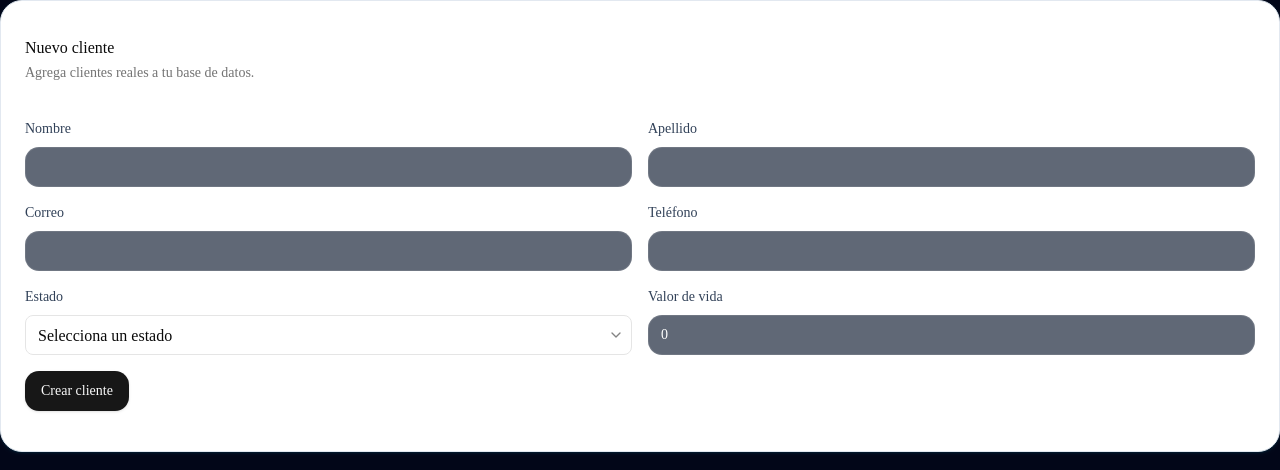
renders form and submits
This screenshot has width=1280, height=470.
Note: first textbox corresponds to Nombre
In the field labelled "Nombre": (328, 167) [25, 147, 632, 187], type "Juan"
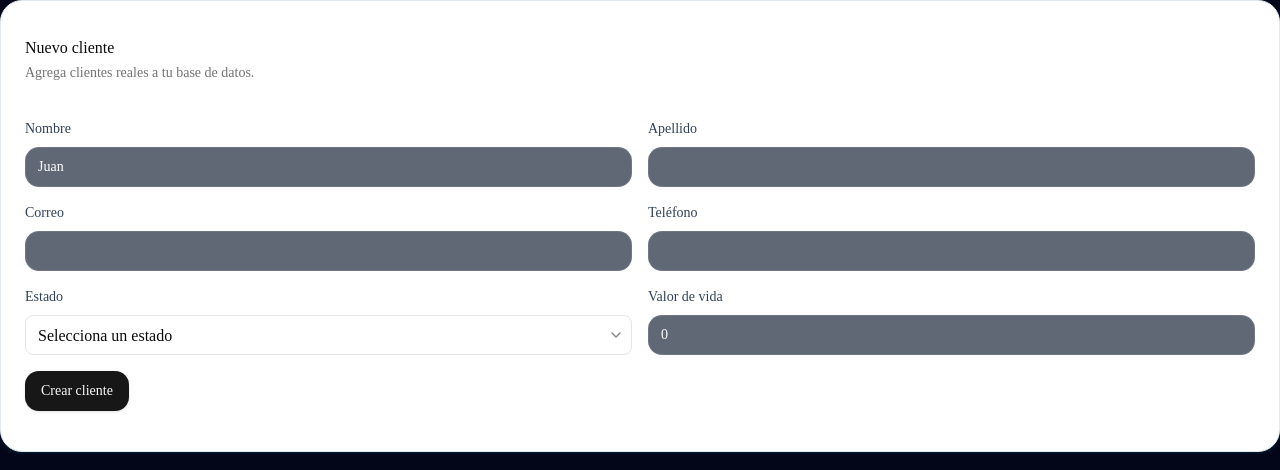
Select "Activo" in the dropdown: (328, 335) [25, 315, 632, 355]
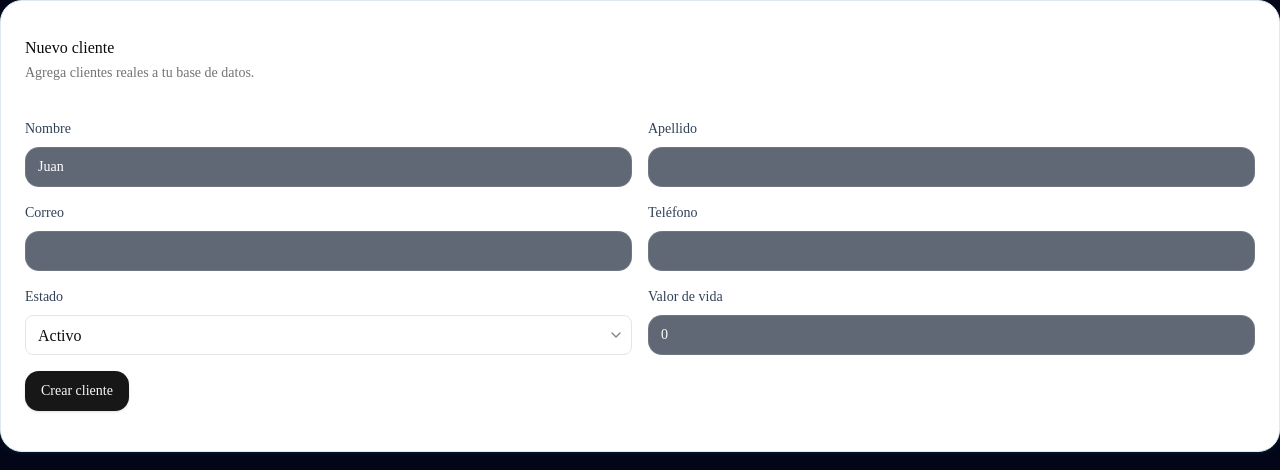
Click the button "Crear cliente": (77, 391) [25, 371, 129, 411]
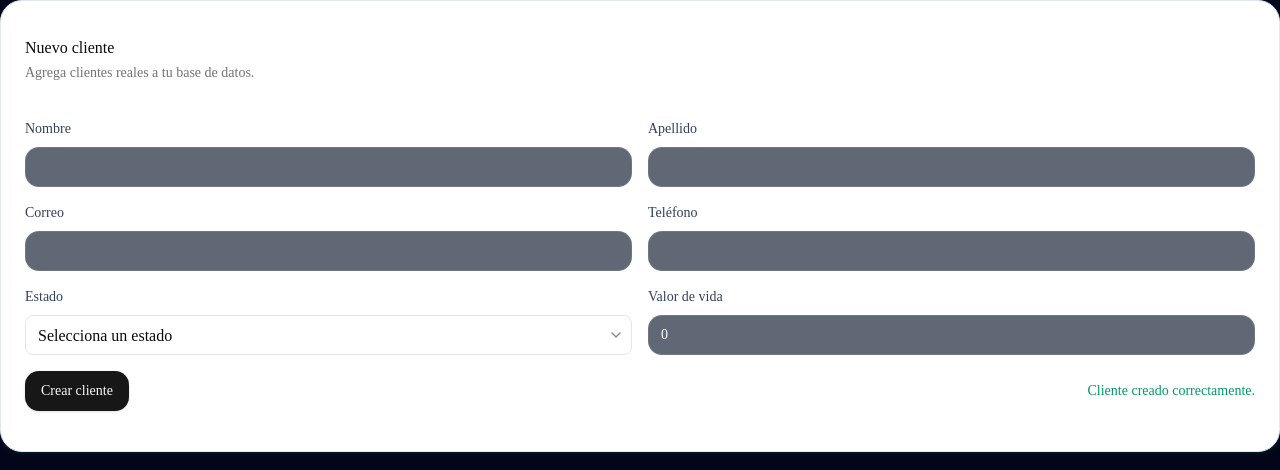
Now the text "Cliente creado correctamente." is shown, box [1088, 381, 1255, 401]
